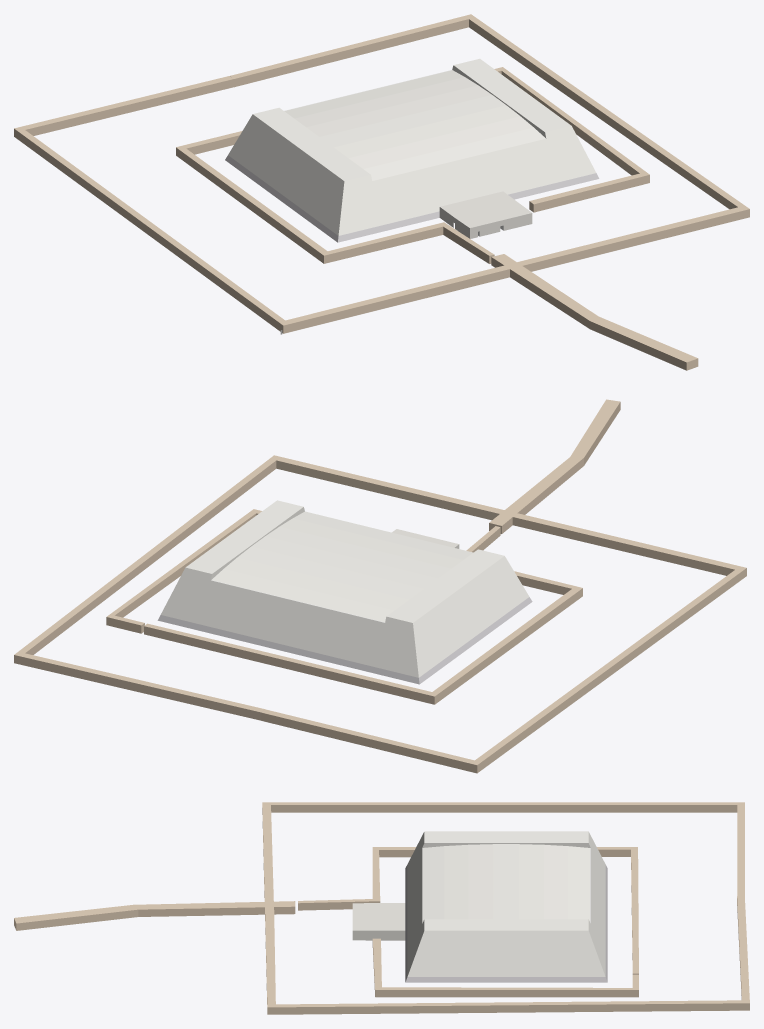
The model's file is Shepseskaf_Mastaba.glb.
3 renders of one model, top to bottom at view 1: azimuth 30°, elevation 25°; view 2: azimuth 150°, elevation 25°; view 3: azimuth 270°, elevation 25°, orthographic. The views are drawn at different scales.
Visible parts, largest first — view 1: Mesh1 Model, Mesh2 Model, Mesh3 Model, Mesh4 Model; view 2: Mesh1 Model, Mesh2 Model, Mesh3 Model, Mesh4 Model; view 3: Mesh1 Model, Mesh2 Model, Mesh4 Model, Mesh3 Model.
Boxes of the visible parts, <box> form: Mesh1 Model: <box>225,58,599,242</box>; Mesh2 Model: <box>14,14,749,370</box>; Mesh3 Model: <box>176,131,494,263</box>; Mesh4 Model: <box>494,67,649,212</box>; Mesh1 Model: <box>157,500,532,684</box>; Mesh2 Model: <box>14,399,746,773</box>; Mesh3 Model: <box>144,526,582,704</box>; Mesh4 Model: <box>106,509,261,633</box>; Mesh1 Model: <box>352,831,607,982</box>; Mesh2 Model: <box>14,802,749,1014</box>; Mesh4 Model: <box>372,938,638,997</box>; Mesh3 Model: <box>298,847,638,974</box>.
Bounding box in the file's own units: 180 × 18 × 271.
